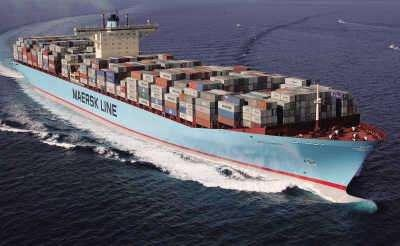Cargoship: (10, 9, 385, 193)
